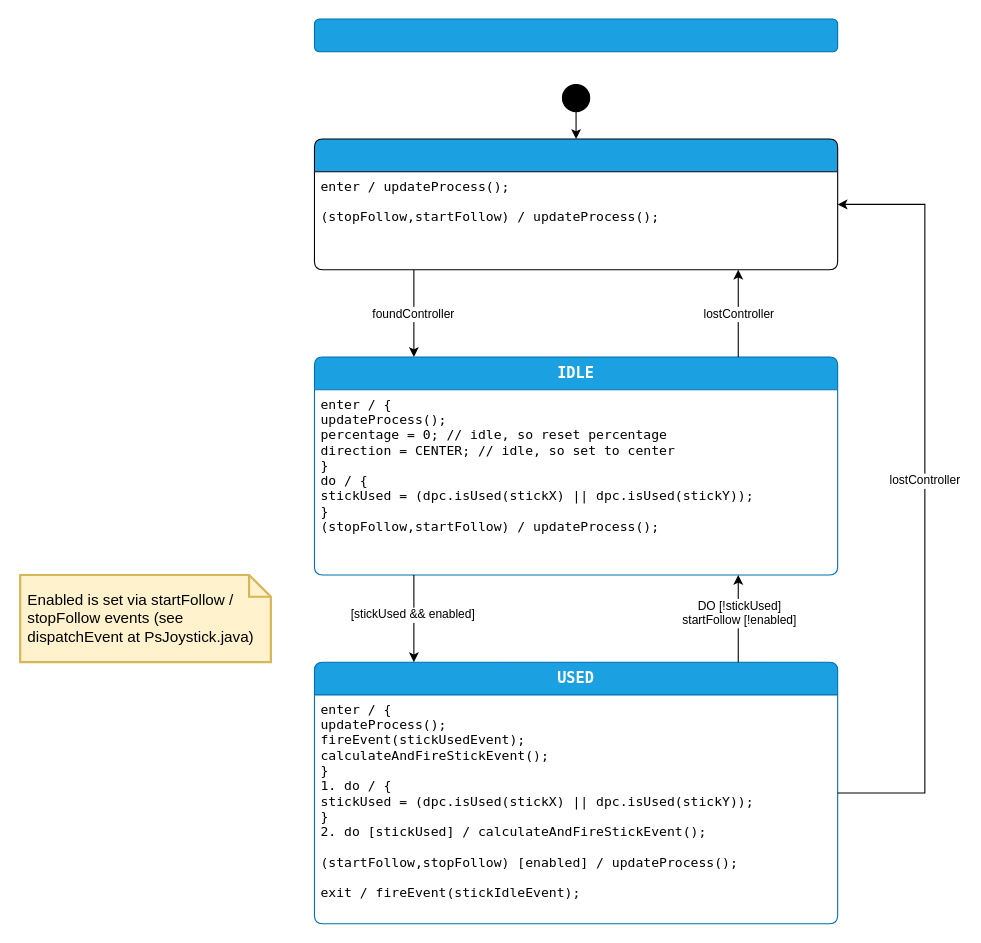
Image size: 981x943. Some labels were removed from this diagram. Here are the shapes that lost their labels. From the top down, the box of each, then its label:
(313, 18, 838, 52): $STATEMACHINE : {fileName}
(313, 138, 838, 270): NOCONNECTION
